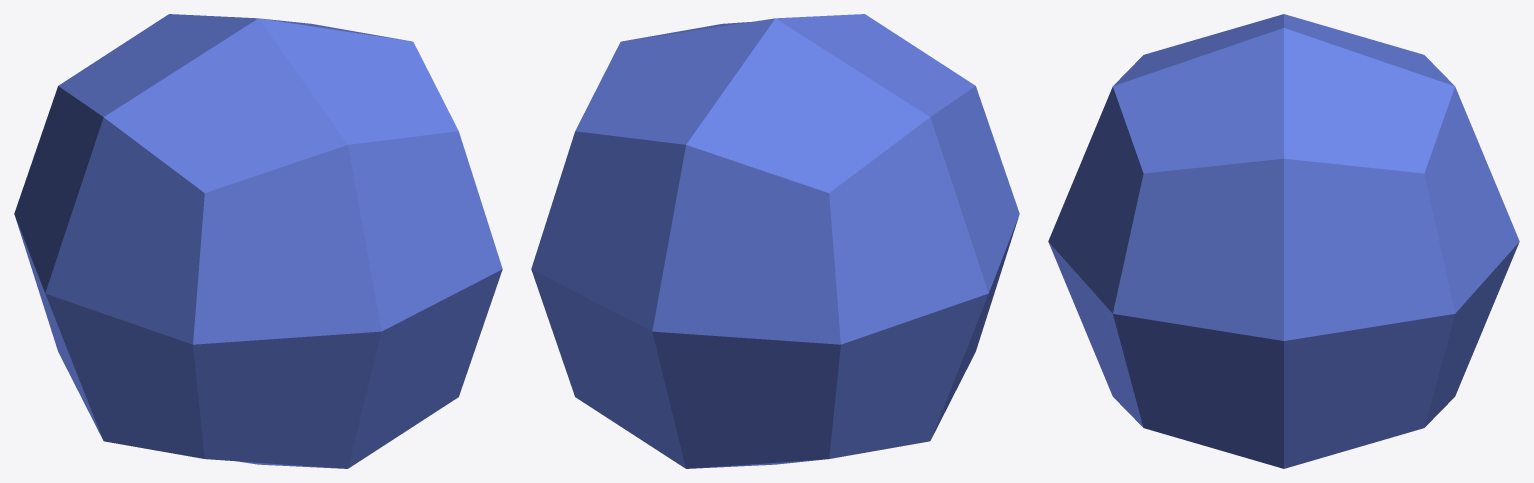
Rendered from hopAnimation.glb.
3 views of the same model, side by side, from view 1: azimuth 30°, elevation 25°; view 2: azimuth 150°, elevation 25°; view 3: azimuth 270°, elevation 25° (orthographic). The views are drawn at different scales.
Parts seen in each view (by area): view 1: Cube; view 2: Cube; view 3: Cube.
Boxes of the visible parts, x1,y1,x2,y2 form: Cube: [14, 14, 502, 468]; Cube: [531, 14, 1019, 468]; Cube: [1048, 14, 1519, 468].
Size of the model in its own units: 1.68 by 1.68 by 1.68.
